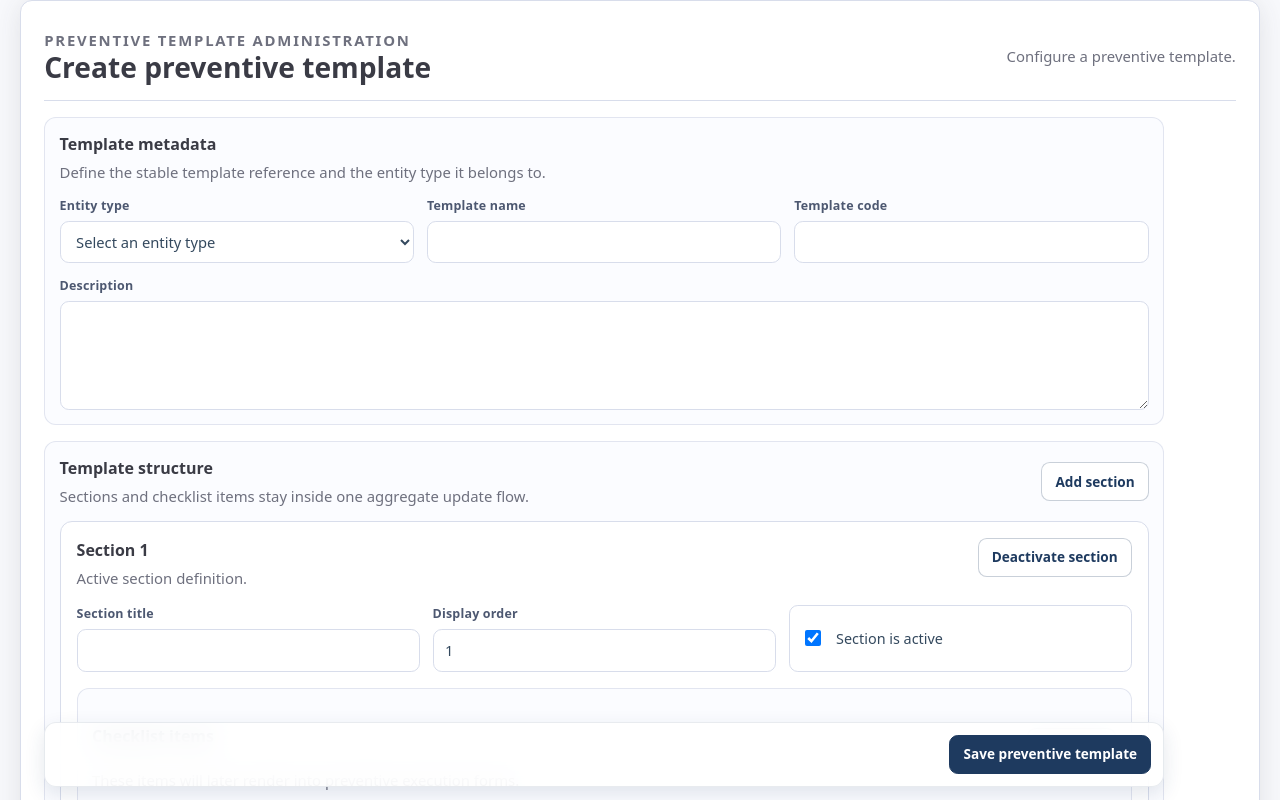
Test: PreventiveTemplateForm › should validate required fields before submission
Click the button "Save preventive template": (1050, 754) [950,734,1151,773]
(page scrolled)
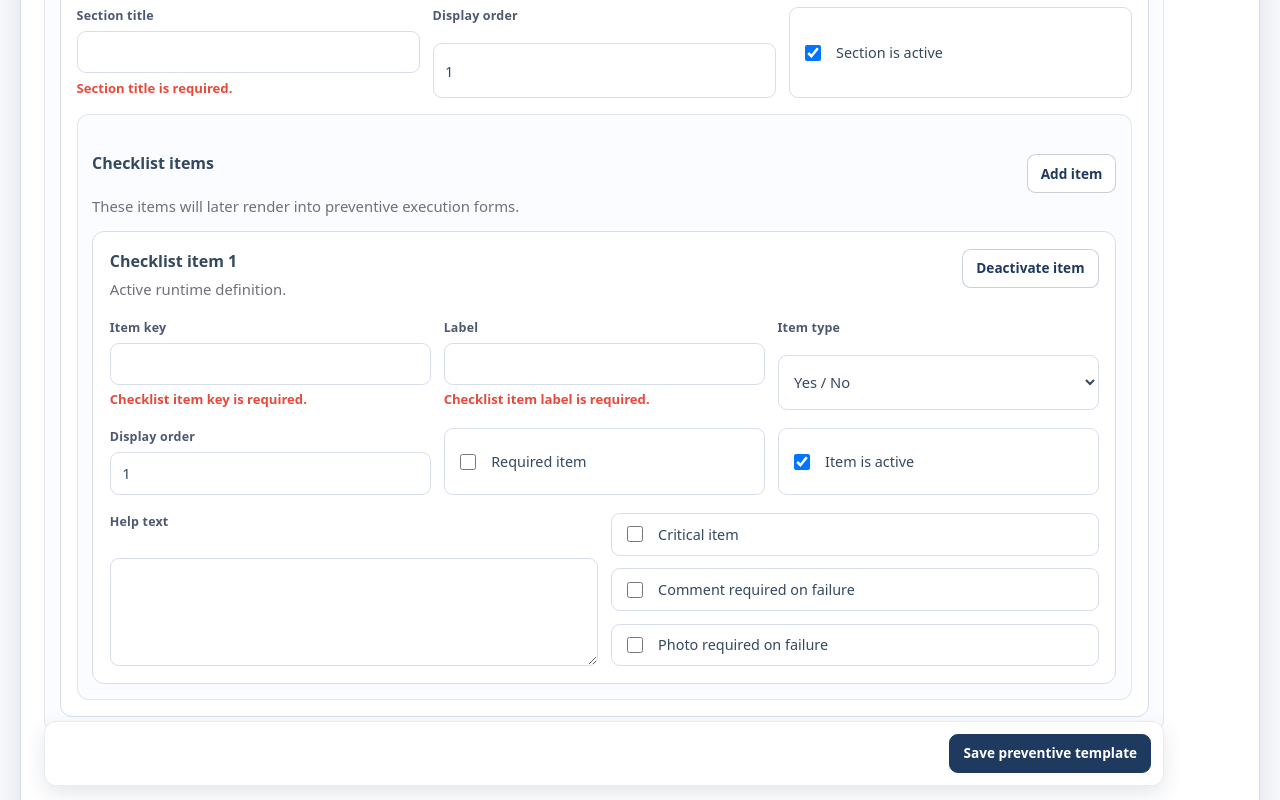
expect the text "Section title is required." is shown: met, box [77,79,232,97]
expect the text "Checklist item key is required." is shown: met, box [110,390,307,408]
